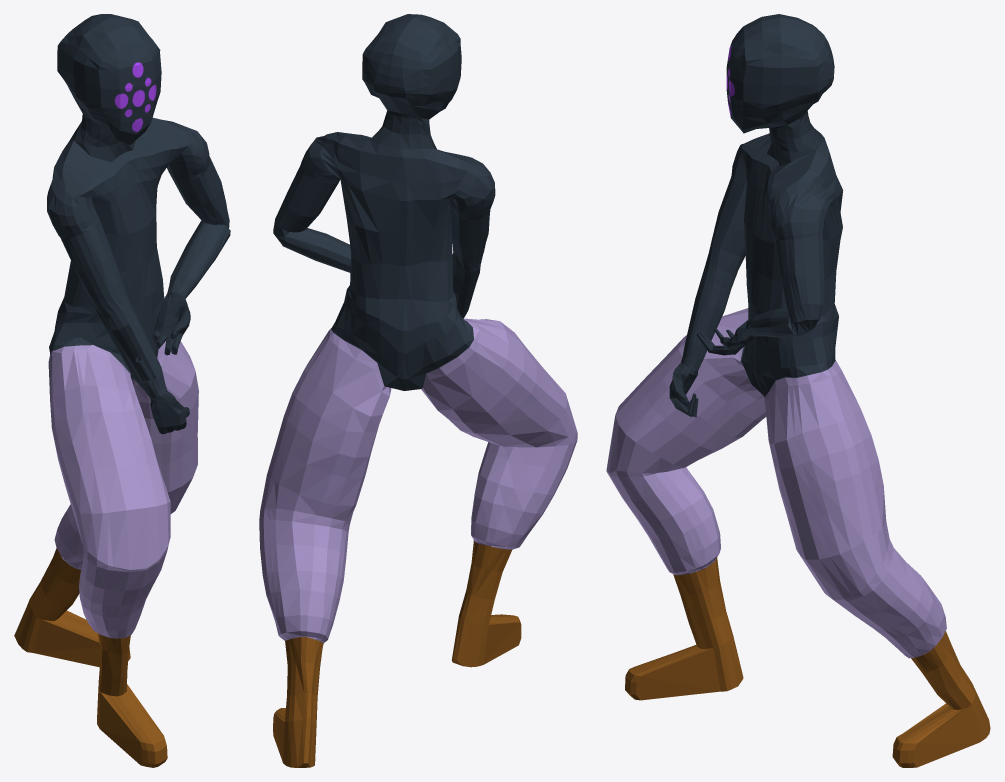
File: Oracle_WB_000018.obj
The picture shows the model from 3 angles, left to right: view 1: azimuth 30°, elevation 25°; view 2: azimuth 150°, elevation 25°; view 3: azimuth 270°, elevation 25°; orthographic projection. The views are drawn at different scales.
Parts seen in each view (by area): view 1: Cube; view 2: Cube; view 3: Cube.
Part boxes in pixels (x1,y1,x2,y2): Cube: [14, 14, 230, 767]; Cube: [259, 14, 577, 767]; Cube: [606, 14, 990, 767].
Size of the model in its own units: 1.22 by 3.7 by 1.8.
